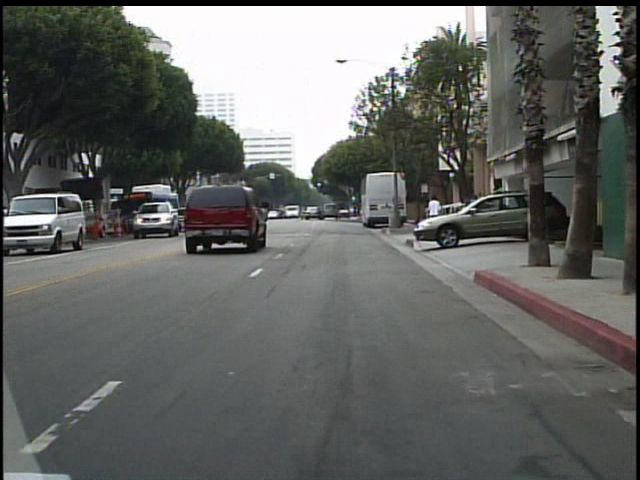person: (422, 192, 444, 237)
